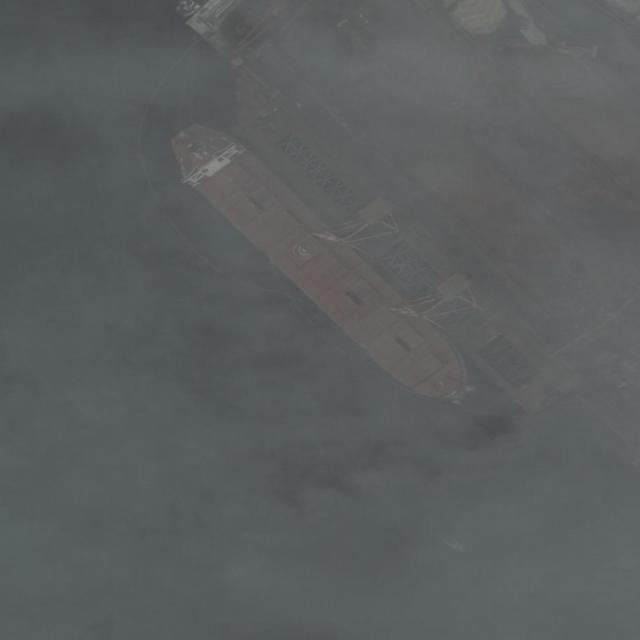Cargo: (154, 103, 489, 425)
